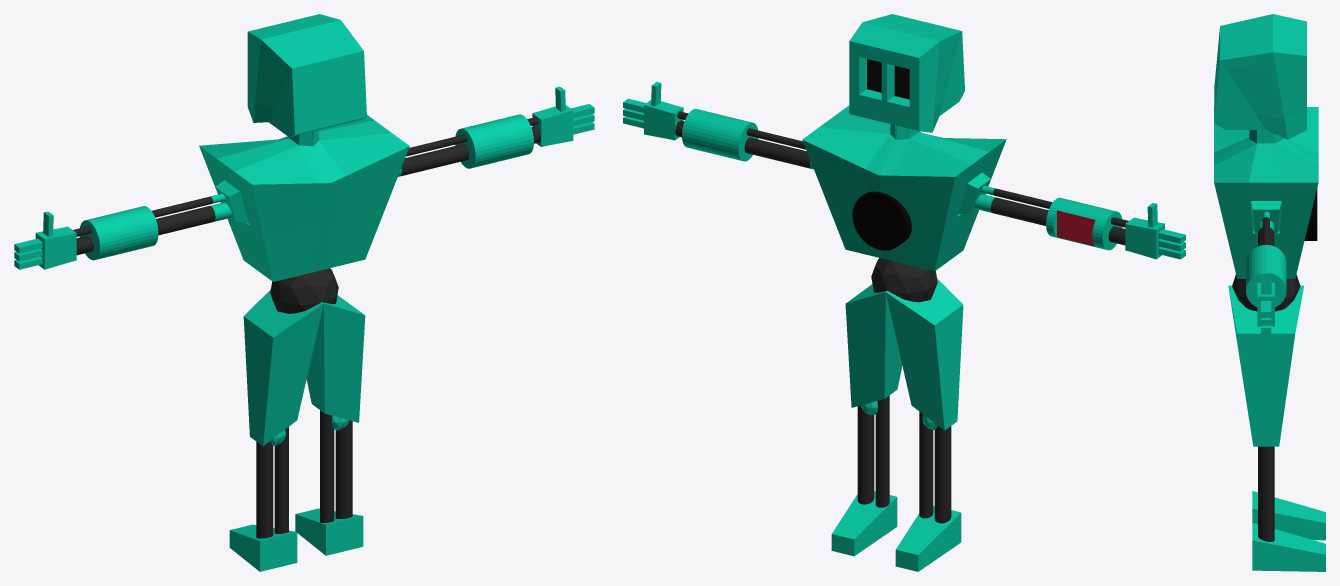
Rendered from ROBOY.obj.
3 views of the same model, side by side, from view 1: azimuth 30°, elevation 25°; view 2: azimuth 150°, elevation 25°; view 3: azimuth 270°, elevation 25° (orthographic). The views are drawn at different scales.
Visible parts, largest first — view 1: Cube; view 2: Cube; view 3: Cube.
Part boxes in pixels (x1,y1,x2,y2): Cube: (14, 14, 594, 571); Cube: (623, 14, 1185, 571); Cube: (1214, 14, 1325, 571).
Bounding box in the file's own units: 6.33 × 5.53 × 1.09.
